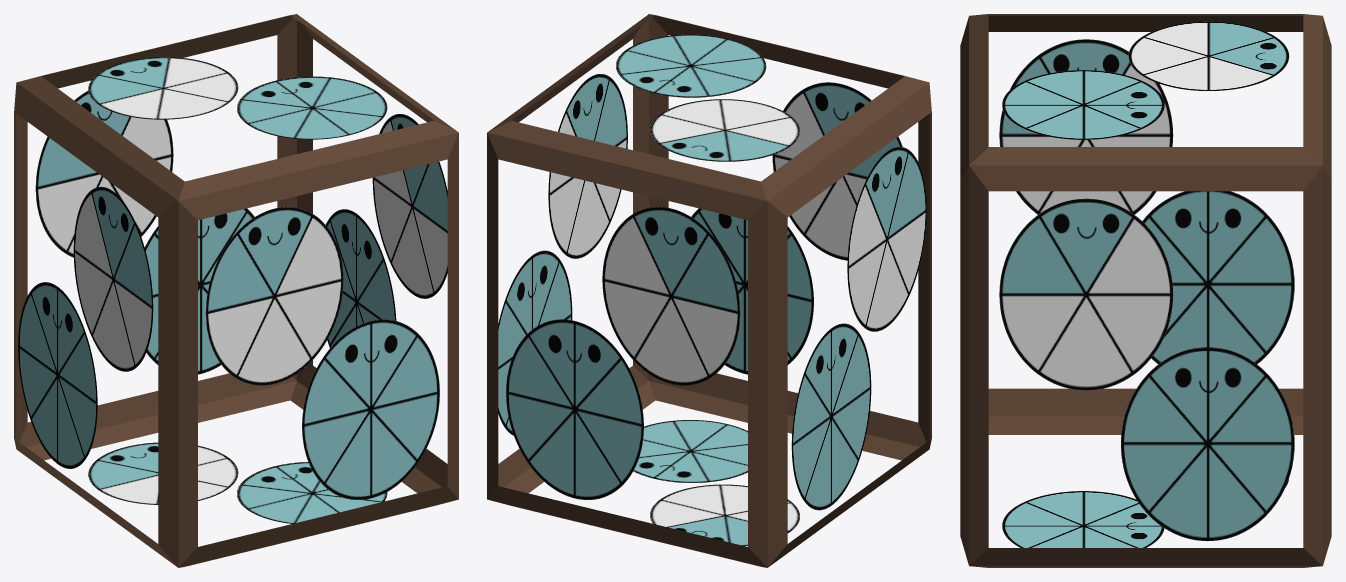
Rendered from Fracciones diez octavos.fbx.
The picture shows the model from 3 angles, left to right: view 1: azimuth 30°, elevation 25°; view 2: azimuth 150°, elevation 25°; view 3: azimuth 270°, elevation 25°; orthographic projection. The views are drawn at different scales.
Parts seen in each view (by area): view 1: 10/8; view 2: 10/8; view 3: 10/8.
Part boxes in pixels (x1,y1,x2,y2): 10/8: (14, 14, 458, 567); 10/8: (487, 14, 931, 567); 10/8: (960, 14, 1331, 567).
Size of the model in its own units: 213 by 263 by 210.
Materials: 2 (1 with a texture image).
